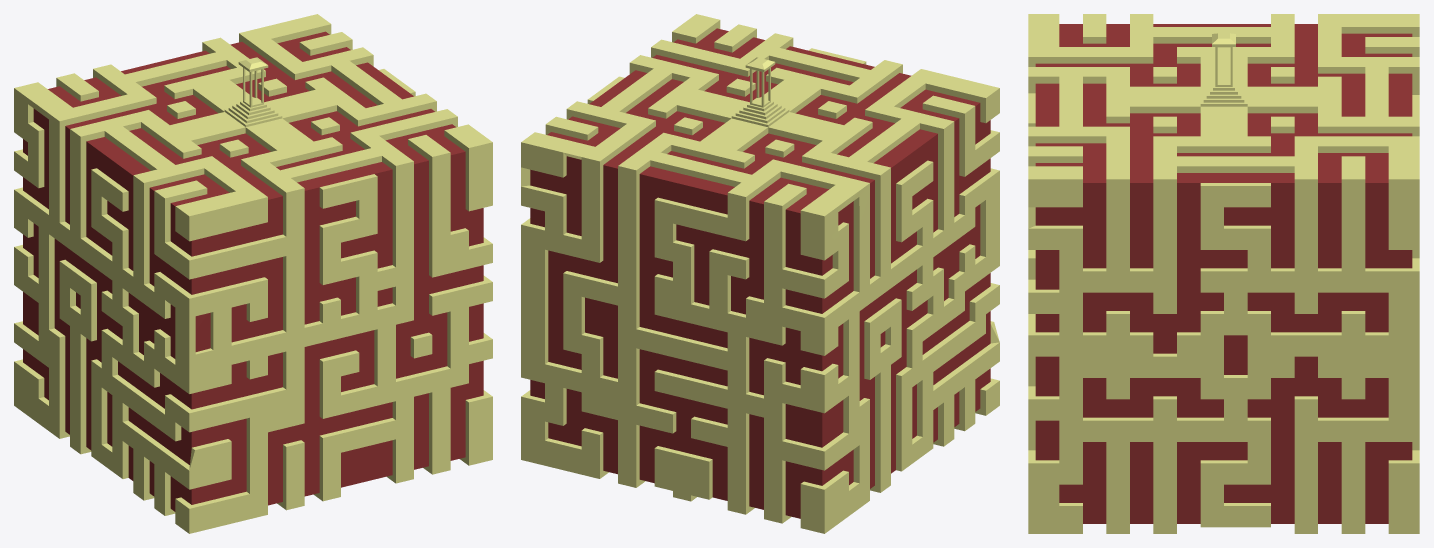
3 views of the same model, side by side, from view 1: azimuth 30°, elevation 25°; view 2: azimuth 150°, elevation 25°; view 3: azimuth 270°, elevation 25° (orthographic). The views are drawn at different scales.
Parts seen in each view (by area): view 1: Cube02; view 2: Cube02; view 3: Cube02.
Part boxes in pixels (x1,y1,x2,y2): Cube02: (14, 14, 492, 533); Cube02: (521, 14, 999, 533); Cube02: (1028, 14, 1419, 533).
Size of the model in its own units: 49.89 by 58.46 by 49.88.
